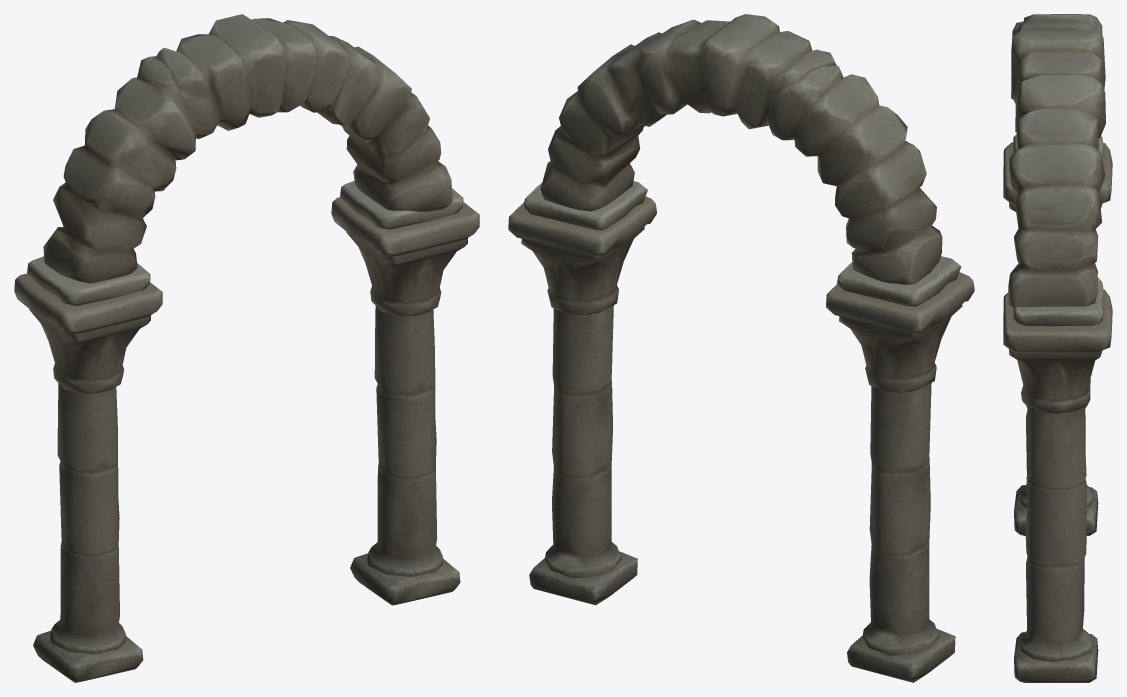
The model's file is SM_FW01_Ruins_Decor_Arch_01.fbx.
3 views of the same model, side by side, from view 1: azimuth 30°, elevation 25°; view 2: azimuth 150°, elevation 25°; view 3: azimuth 270°, elevation 25° (orthographic). The views are drawn at different scales.
Visible parts, largest first — view 1: SM_FW01_Ruins_Decor_Arch_01_LOD0; view 2: SM_FW01_Ruins_Decor_Arch_01_LOD0; view 3: SM_FW01_Ruins_Decor_Arch_01_LOD0.
Boxes of the visible parts, <box> form: SM_FW01_Ruins_Decor_Arch_01_LOD0: <box>14,14,479,682</box>; SM_FW01_Ruins_Decor_Arch_01_LOD0: <box>508,14,974,682</box>; SM_FW01_Ruins_Decor_Arch_01_LOD0: <box>1003,14,1112,682</box>.
Size of what is drawn, in the model's own units: 4.25 by 5.72 by 1.01.
